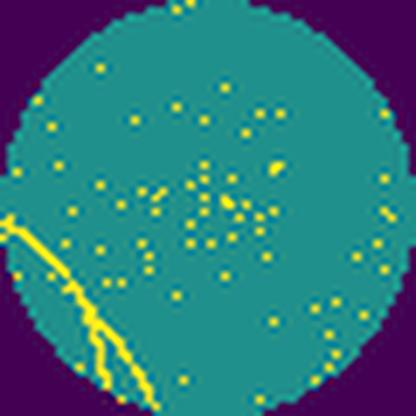Scratch: (0, 204, 170, 415)
